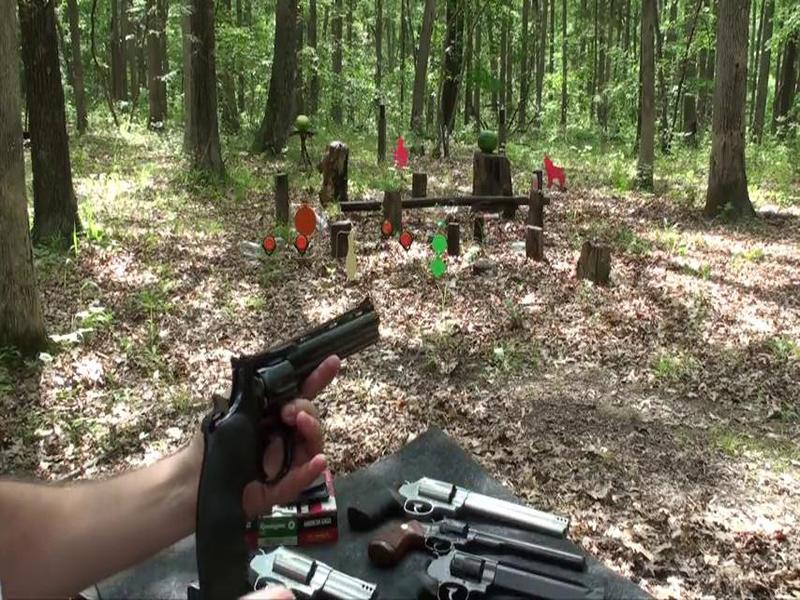Revolver: (171, 301, 389, 600)
